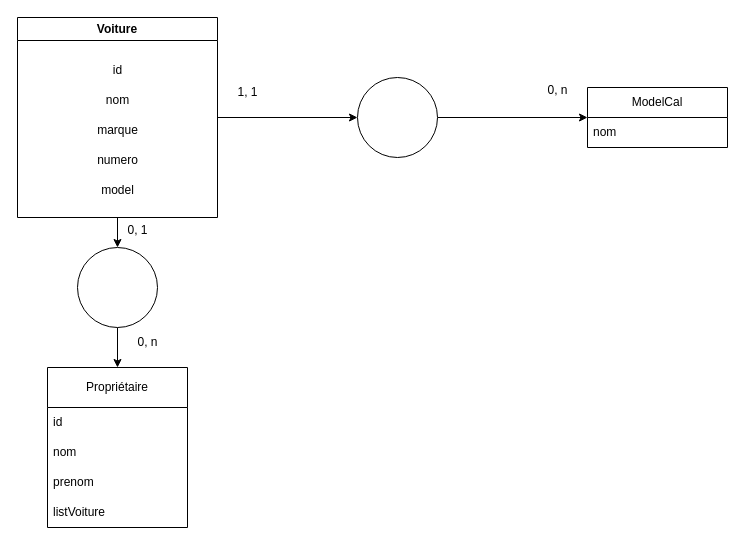
Image size: 745x545. Some labels were removed from this diagram. Each missing label, with the centre of its shape:
"Appartient à" belongs at (x=117, y=287).
"Possède" belongs at (x=397, y=117).
